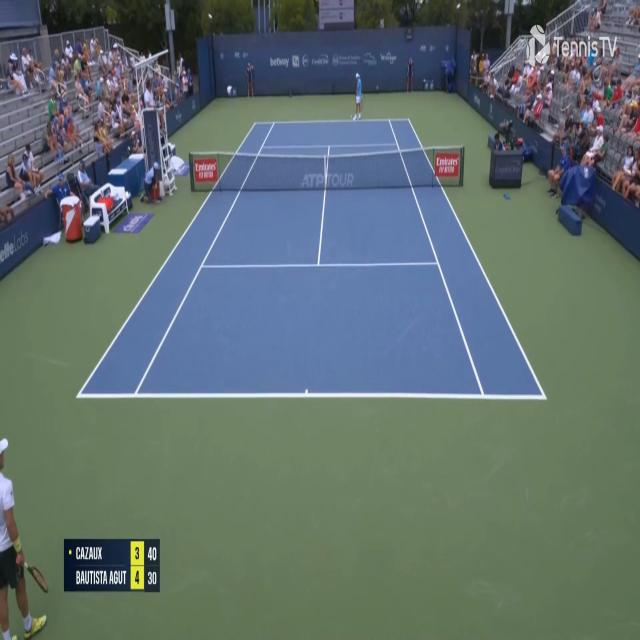tennis-player: (0, 434, 54, 639), (352, 70, 365, 124)
